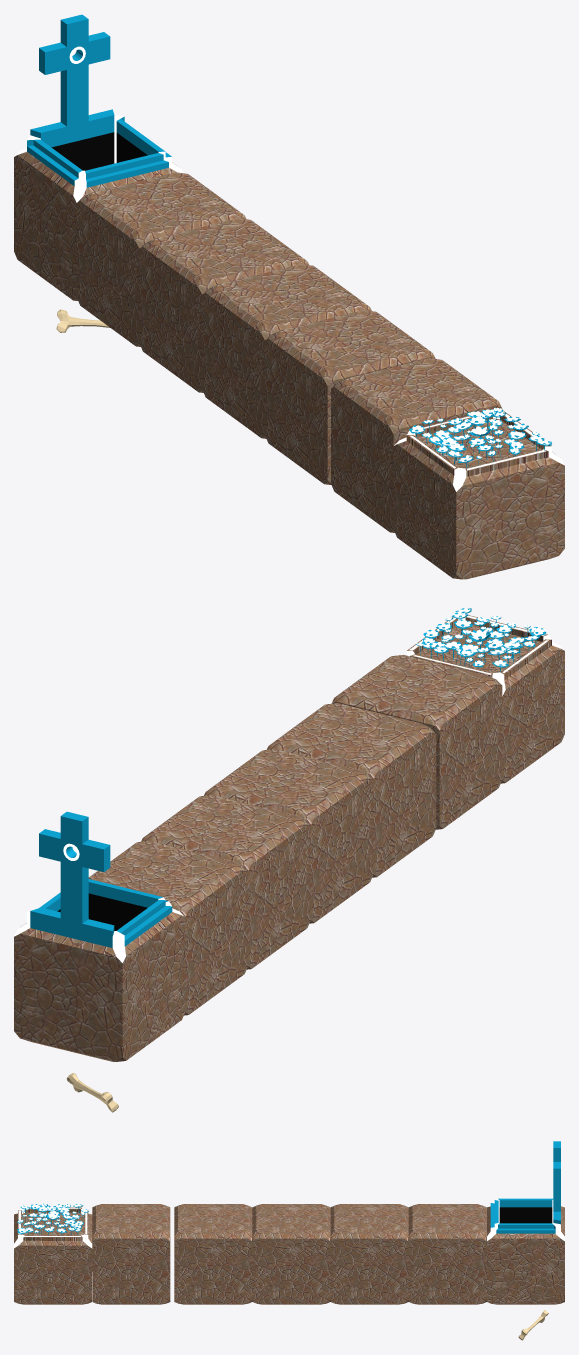
Rendered from P_LevelIntroduction.fbx.
3 views of the same model, one above another, from view 1: azimuth 30°, elevation 25°; view 2: azimuth 150°, elevation 25°; view 3: azimuth 270°, elevation 25° (orthographic). The views are drawn at different scales.
Parts seen in each view (by area): view 1: SM_Ground, Spawner, Ground 3, Ground 4, Ground 2, Ground 1, Ground, Plane.002; view 2: Spawner, Ground 4, Ground 3, Ground, Ground 1, Ground 2, SM_Ground, Plane.002; view 3: Spawner, Ground 3, Ground, Ground 1, Ground 2, Ground 4, SM_Ground, Plane.002.
Boxes of the visible parts, x1,y1,x2,y2 form: SM_Ground: (393, 411, 564, 579); Spawner: (14, 14, 183, 300); Ground 3: (265, 310, 435, 484); Ground 4: (331, 358, 502, 532); Ground 2: (76, 172, 246, 346); Ground 1: (139, 218, 308, 392); Ground: (202, 264, 371, 438); Plane.002: (409, 407, 551, 467); Spawner: (14, 811, 185, 1061); Ground 4: (331, 655, 502, 829); Ground 3: (266, 703, 436, 877); Ground: (204, 749, 373, 923); Ground 1: (141, 795, 310, 969); Ground 2: (88, 841, 247, 1015); SM_Ground: (406, 615, 564, 783); Plane.002: (416, 608, 546, 672); Spawner: (487, 1141, 564, 1304); Ground 3: (174, 1204, 252, 1304); Ground: (252, 1204, 330, 1304); Ground 1: (330, 1204, 408, 1304); Ground 2: (408, 1204, 486, 1304); Ground 4: (92, 1204, 170, 1304); SM_Ground: (14, 1207, 92, 1304); Plane.002: (17, 1203, 88, 1235).
Bounding box in the file's own units: 100 × 266 × 705.
5 materials, 1 textured.
